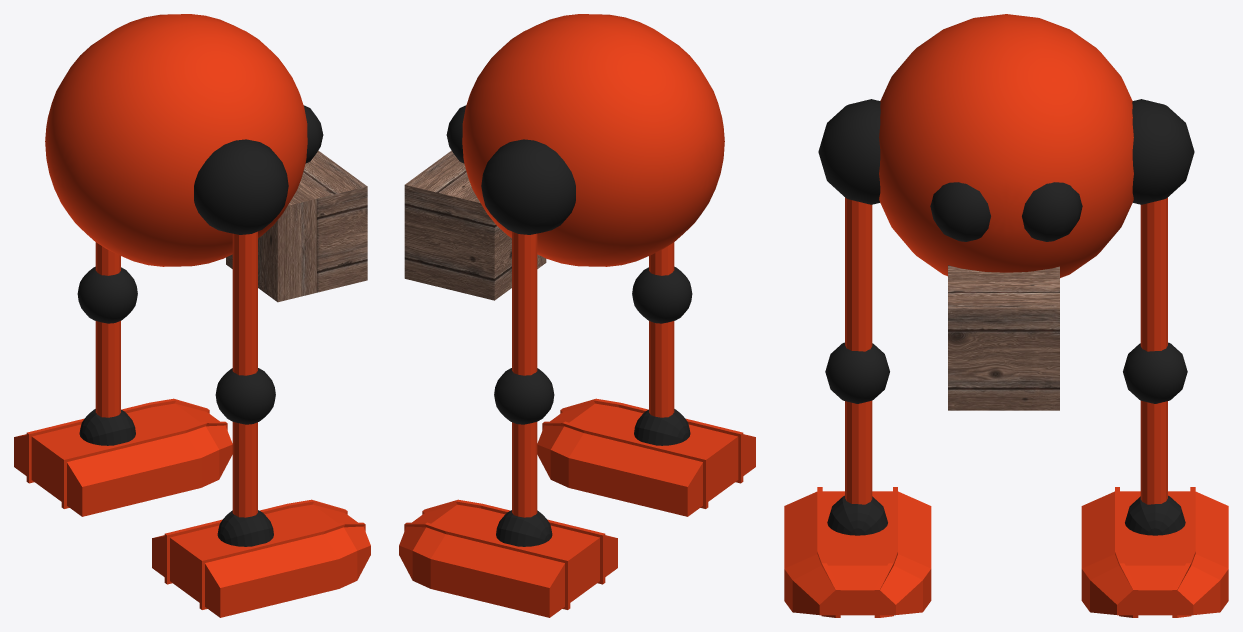
The model's file is RoboCreate.fbx.
3 renders of one model, left to right at view 1: azimuth 30°, elevation 25°; view 2: azimuth 150°, elevation 25°; view 3: azimuth 270°, elevation 25°, orthographic. The views are drawn at different scales.
Parts seen in each view (by area): view 1: Sphere.001, Cube.010, Cube, Sphere.002, Sphere.004, Cylinder.008, Cylinder.006, Sphere.005, Sphere.006; view 2: Sphere.001, Cube.010, Cube, Sphere.002, Sphere.004, Cylinder.008, Cylinder.006, Sphere.005, Sphere.006; view 3: Sphere.001, Cube.010, Cube, Sphere.002, Cylinder.006, Sphere.004, Cylinder.008, Sphere.006, Sphere.005.
Part boxes in pixels (left/top/right/bottom): Sphere.001: left=45, top=14, right=307, bottom=266; Cube.010: left=14, top=398, right=370, bottom=617; Cube: left=226, top=150, right=367, bottom=302; Sphere.002: left=194, top=139, right=288, bottom=234; Sphere.004: left=77, top=266, right=275, bottom=424; Cylinder.008: left=95, top=321, right=257, bottom=517; Cylinder.006: left=95, top=231, right=257, bottom=375; Sphere.005: left=79, top=409, right=273, bottom=546; Sphere.006: left=303, top=105, right=323, bottom=163; Sphere.001: left=462, top=14, right=724, bottom=266; Cube.010: left=399, top=398, right=755, bottom=617; Cube: left=404, top=150, right=546, bottom=300; Sphere.002: left=481, top=139, right=575, bottom=234; Sphere.004: left=494, top=266, right=692, bottom=424; Cylinder.008: left=512, top=321, right=674, bottom=517; Cylinder.006: left=512, top=231, right=674, bottom=375; Sphere.005: left=496, top=409, right=690, bottom=546; Sphere.006: left=446, top=105, right=466, bottom=163; Sphere.001: left=879, top=14, right=1133, bottom=277; Cube.010: left=784, top=487, right=1228, bottom=617; Cube: left=948, top=265, right=1059, bottom=410; Sphere.002: left=818, top=99, right=1194, bottom=204; Cylinder.006: left=845, top=197, right=1167, bottom=351; Sphere.004: left=825, top=342, right=1187, bottom=403; Cylinder.008: left=845, top=400, right=1167, bottom=504; Sphere.006: left=930, top=182, right=1082, bottom=241; Sphere.005: left=827, top=495, right=1185, bottom=535.
Bounding box in the file's own units: 622 × 1076 × 795.
